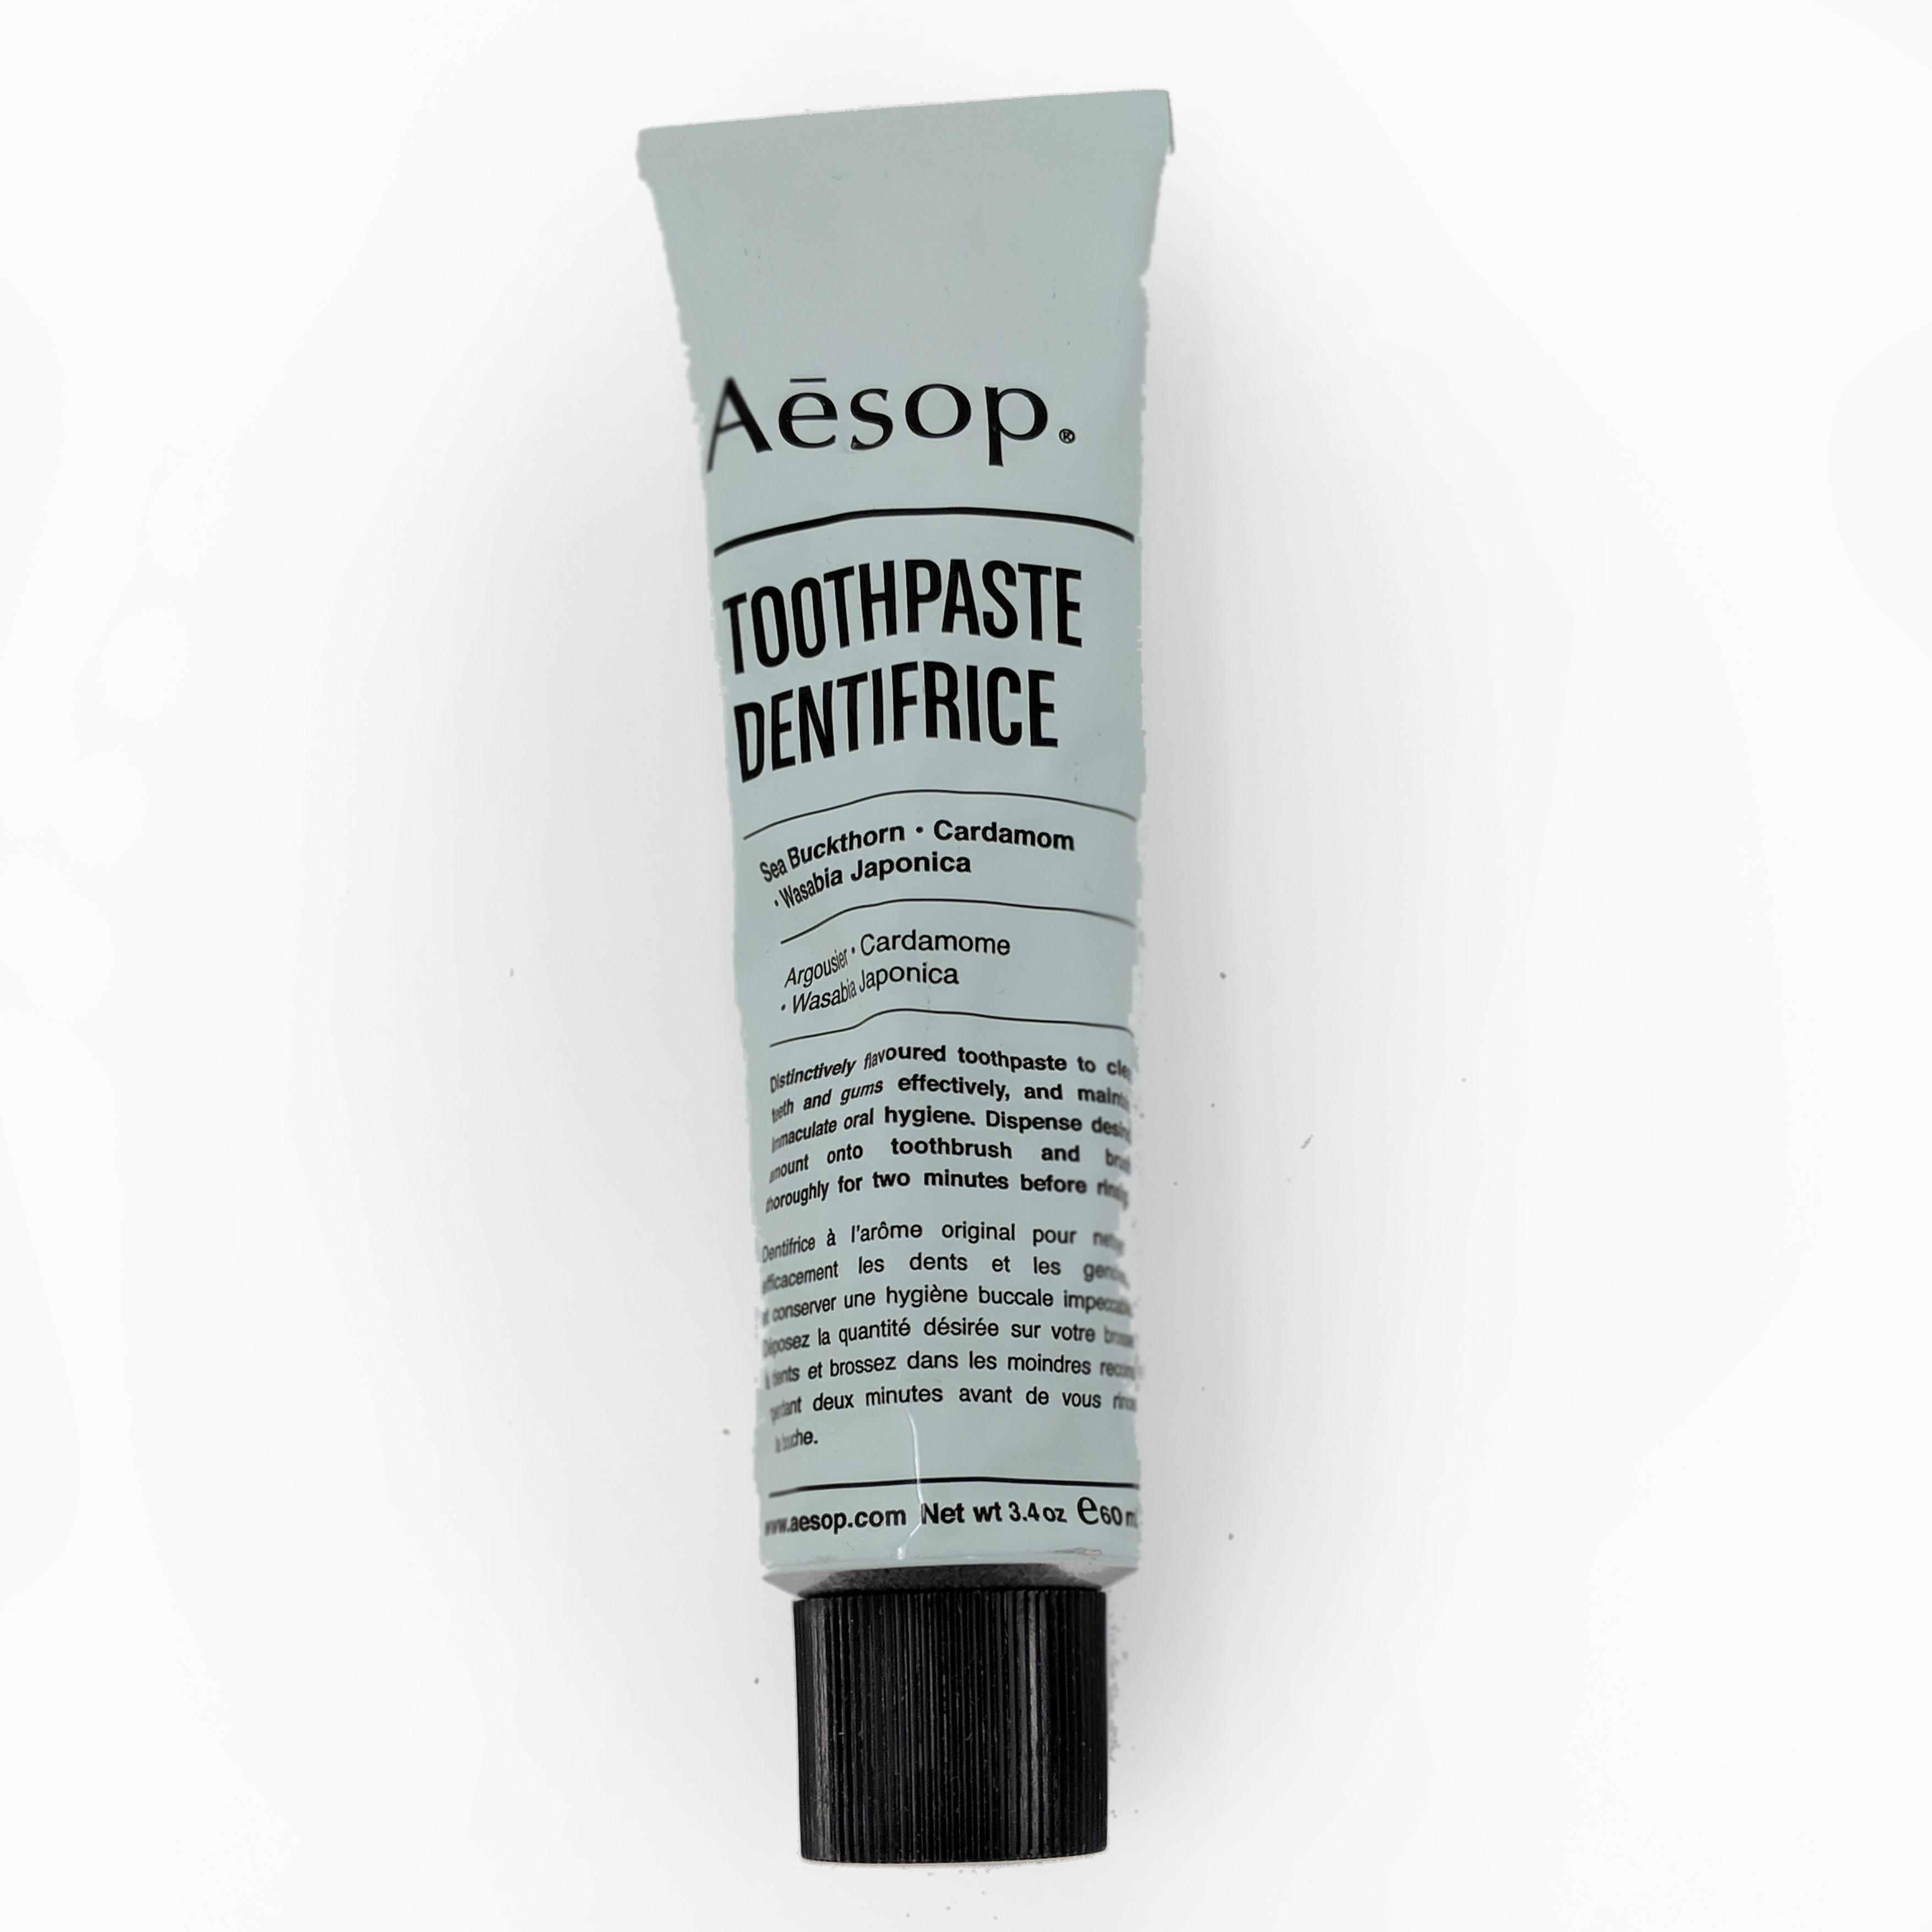toothpaste: (602, 81, 1189, 1893)
